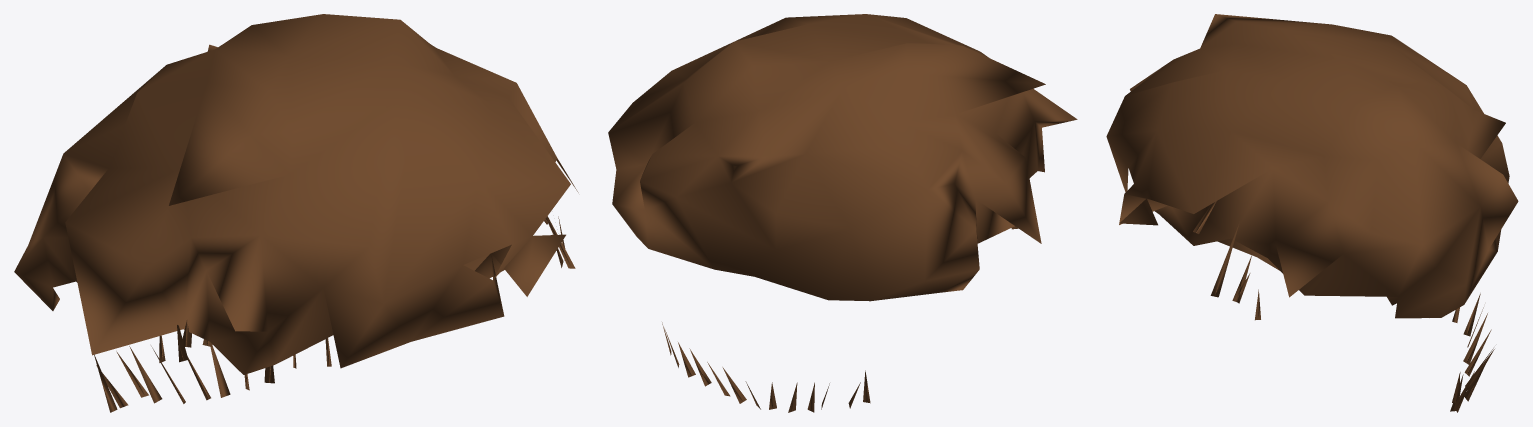
File: short-fringe.glb
3 views of the same model, side by side, from view 1: azimuth 30°, elevation 25°; view 2: azimuth 150°, elevation 25°; view 3: azimuth 270°, elevation 25° (orthographic). The views are drawn at different scales.
Visible parts, largest first — view 1: Hair, HairPulledRootStrands; view 2: Hair, HairPulledRootStrands; view 3: Hair, HairPulledRootStrands.
Part boxes in pixels (x1=…): Hair: x1=14, y1=14, x2=578, y2=374; HairPulledRootStrands: x1=94, y1=216, x2=575, y2=412; Hair: x1=608, y1=14, x2=1077, y2=301; HairPulledRootStrands: x1=662, y1=226, x2=1018, y2=412; Hair: x1=1106, y1=14, x2=1518, y2=318; HairPulledRootStrands: x1=1193, y1=201, x2=1494, y2=412.
Bounding box in the file's own units: 0.4633 × 0.3695 × 0.4238.
